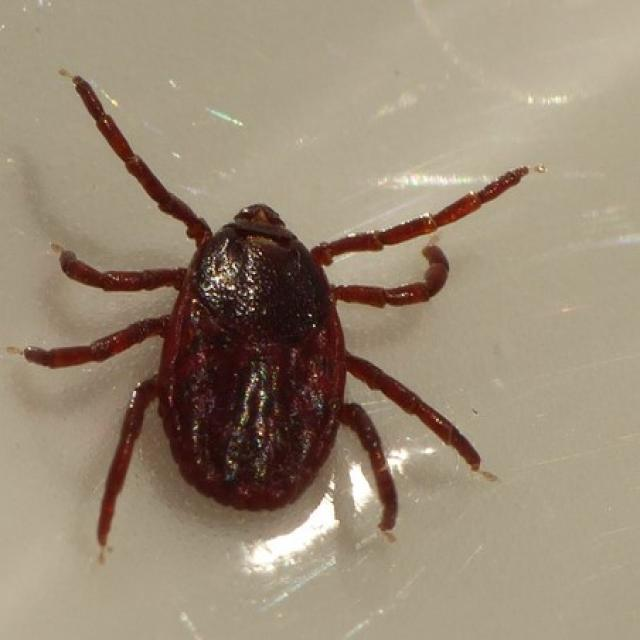Rhipicephalus Sanguineus-F: (24, 78, 532, 553)
